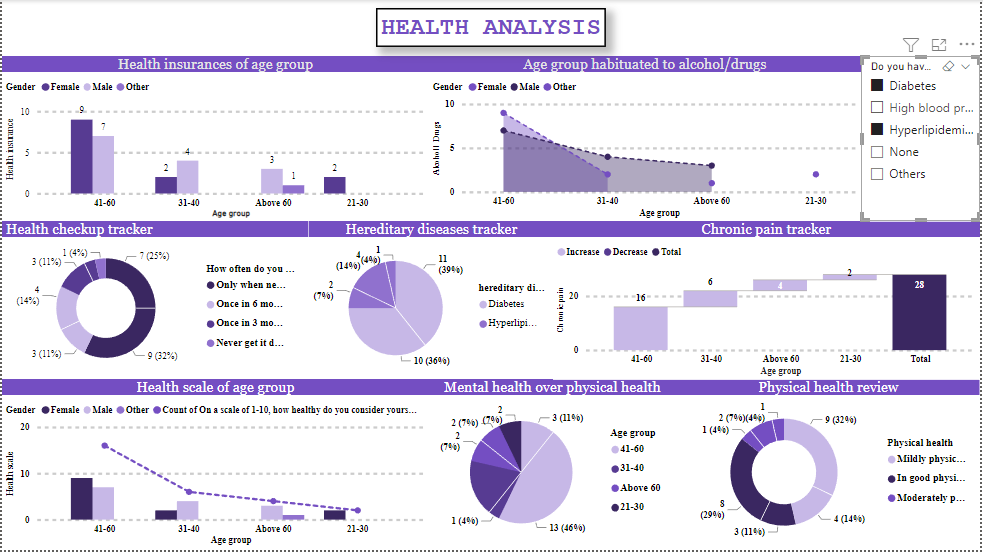

The page's visual inventory and layout, read from the dashboard file:
{"tool":"powerbi","page":{"name":"Page 2","canvas":[1280,720],"ordinal":1},"visuals":[{"type":"areaChart","title":"Age group habituated to alcohol/drugs ","fields":{"Category":["Health Analysis.Age group"],"Y":["CountNonNull(Health Analysis.Are you habituated to alcohol/drugs ?)"],"Series":["Health Analysis.Gender"]},"box":[558.7,72.8,565.5,216.7],"z":0},{"type":"slicer","fields":{"Values":["Health Analysis.Do you have any hereditary conditions/ diseases ?"]},"box":[1124.2,72.8,155.8,216.7],"z":1000},{"type":"clusteredColumnChart","title":"Health insurances of age group","fields":{"Series":["Health Analysis.Gender"],"Category":["Health Analysis.Age group"],"Y":["CountNonNull(Health Analysis.Do you have a health insurance ? )"]},"box":[0,72.8,558.7,216.7],"z":2000},{"type":"pieChart","title":"Hereditary diseases tracker","fields":{"Series":["Health Analysis.Gender"],"Category":["Health Analysis.Do you have any hereditary conditions/ diseases ?"],"Y":["CountNonNull(Health Analysis.Gender)"]},"box":[401.3,289.5,320,206.6],"z":3000},{"type":"donutChart","title":"Health checkup tracker","fields":{"Series":["Health Analysis.Gender"],"Y":["CountNonNull(Health Analysis.Gender)"],"Category":["Health Analysis.How often do you get a health checkup ? "]},"box":[0,289.5,401.3,206.6],"z":4000},{"type":"lineClusteredColumnComboChart","title":"Health scale of age group","fields":{"Category":["Health Analysis.Age group"],"Series":["Health Analysis.Gender"],"Y":["CountNonNull(Health Analysis.On a scale of 1-10, how healthy do you consider yourself ?)"],"Y2":["CountNonNull(Health Analysis.On a scale of 1-10, how healthy do you consider yourself ?)"]},"box":[0,496.1,558.7,223.5],"z":5000},{"type":"donutChart","title":"Physical health review ","fields":{"Y":["CountNonNull(Health Analysis.Gender)"],"Series":["Health Analysis.Gender"],"Category":["Health Analysis.Would you say you are :"]},"box":[883.8,496.1,396.2,223.5],"z":6000},{"type":"pieChart","title":"Mental health over physical health","fields":{"Category":["Health Analysis.Age group"],"Y":["CountNonNull(Health Analysis.Does your mental well being has an affect on your physical health ?)"],"Series":["Health Analysis.Does your mental well being has an affect on your physical health ?"]},"box":[558.3,495.9,325.5,223],"z":7000},{"type":"waterfallChart","title":"Chronic pain tracker ","fields":{"Category":["Health Analysis.Age group"],"Y":["CountNonNull(Health Analysis.Do you experience any chronic pain ?)"]},"box":[721.3,289.5,558.7,208.3],"z":8000},{"type":"shape","box":[489,11.1,300.6,51.3],"z":9000}]}

Visuals, with their boxes in screenshot pixels (x1, y1, x2, y2), scaled from the page's 1280x720 canvas onto the 983x553 screenshot:
"Age group habituated to alcohol/drugs " areaChart: 429:56:863:222
slicer - Health Analysis.Do you have any hereditary conditions/ diseases ?: 863:56:982:222
"Health insurances of age group" clusteredColumnChart: 0:56:429:222
"Hereditary diseases tracker" pieChart: 308:222:554:381
"Health checkup tracker" donutChart: 0:222:308:381
"Health scale of age group" lineClusteredColumnComboChart: 0:381:429:552
"Physical health review " donutChart: 679:381:982:552
"Mental health over physical health" pieChart: 429:381:679:552
"Chronic pain tracker " waterfallChart: 554:222:982:382
shape: 376:9:606:48
